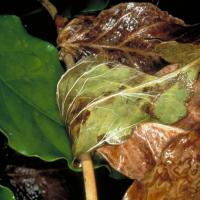mal de hilachas: (59, 7, 197, 189)
